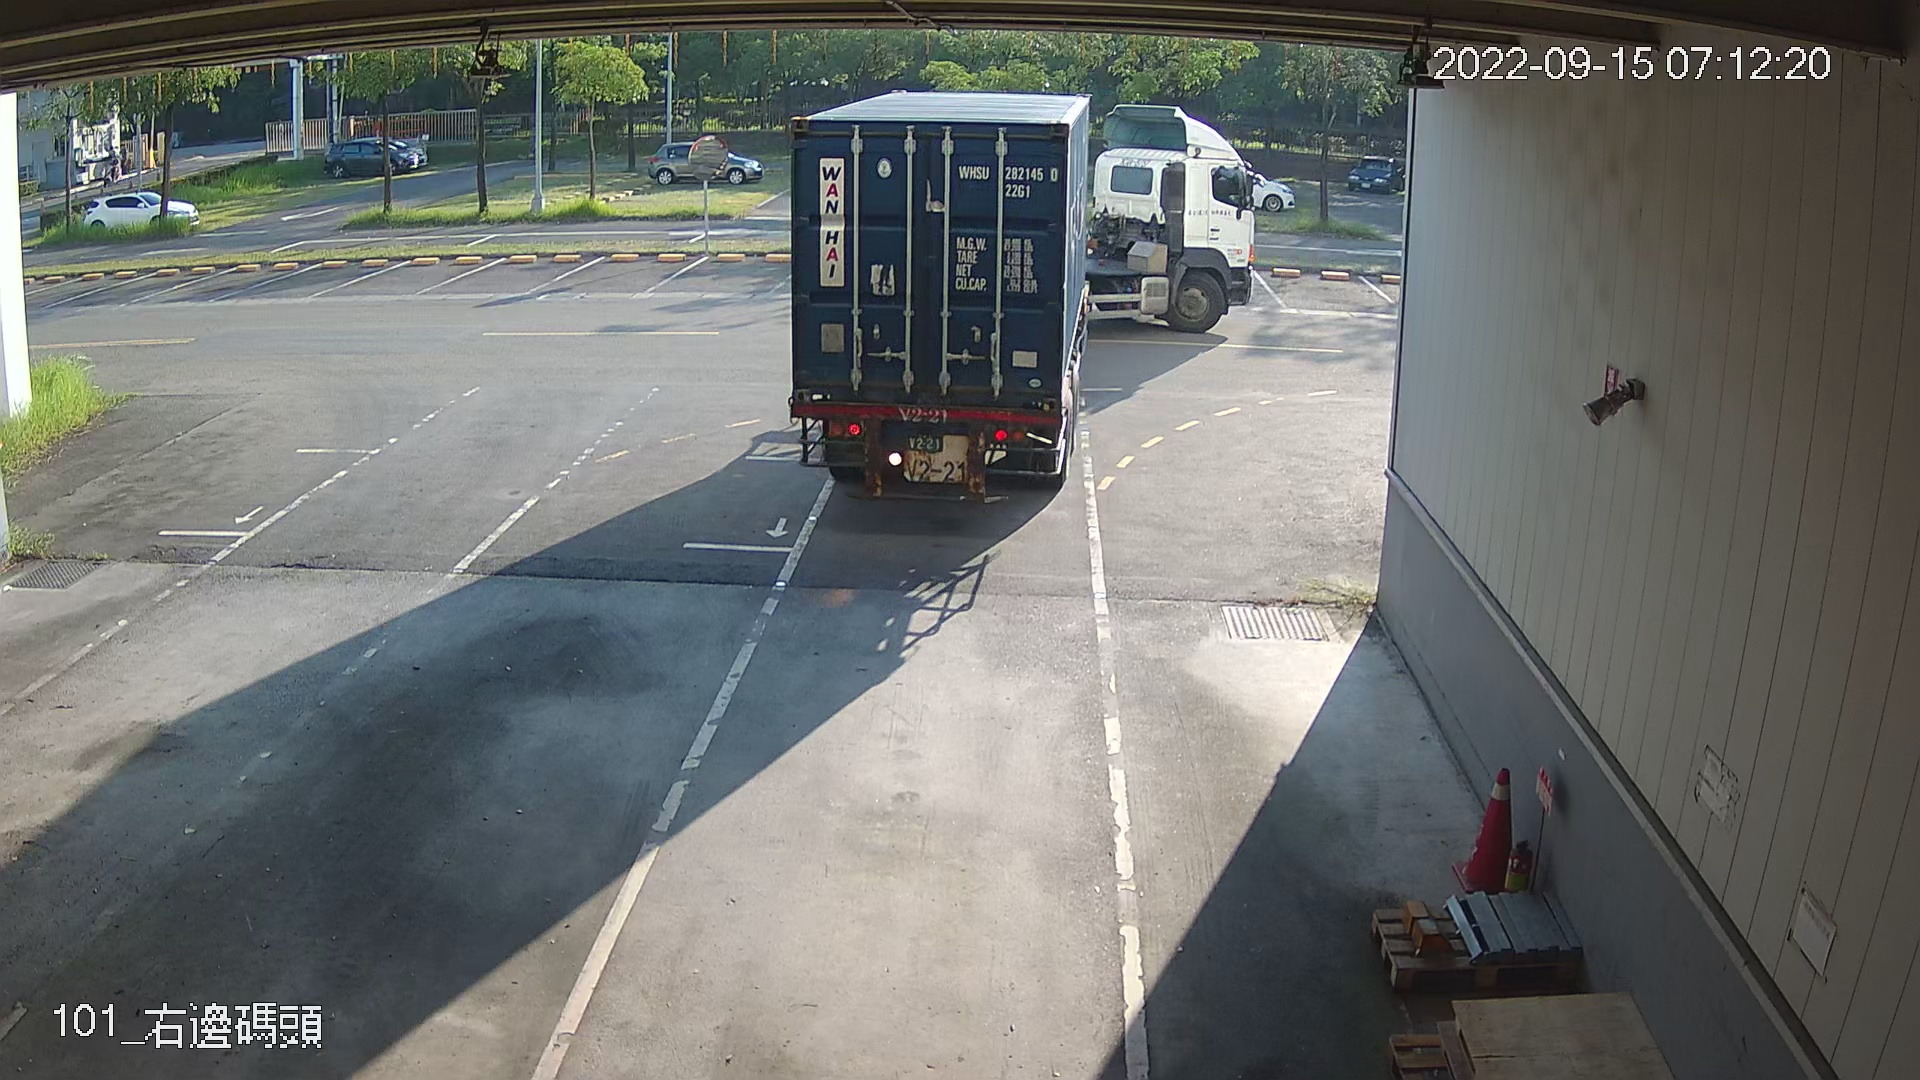container: (953, 156, 1063, 204)
